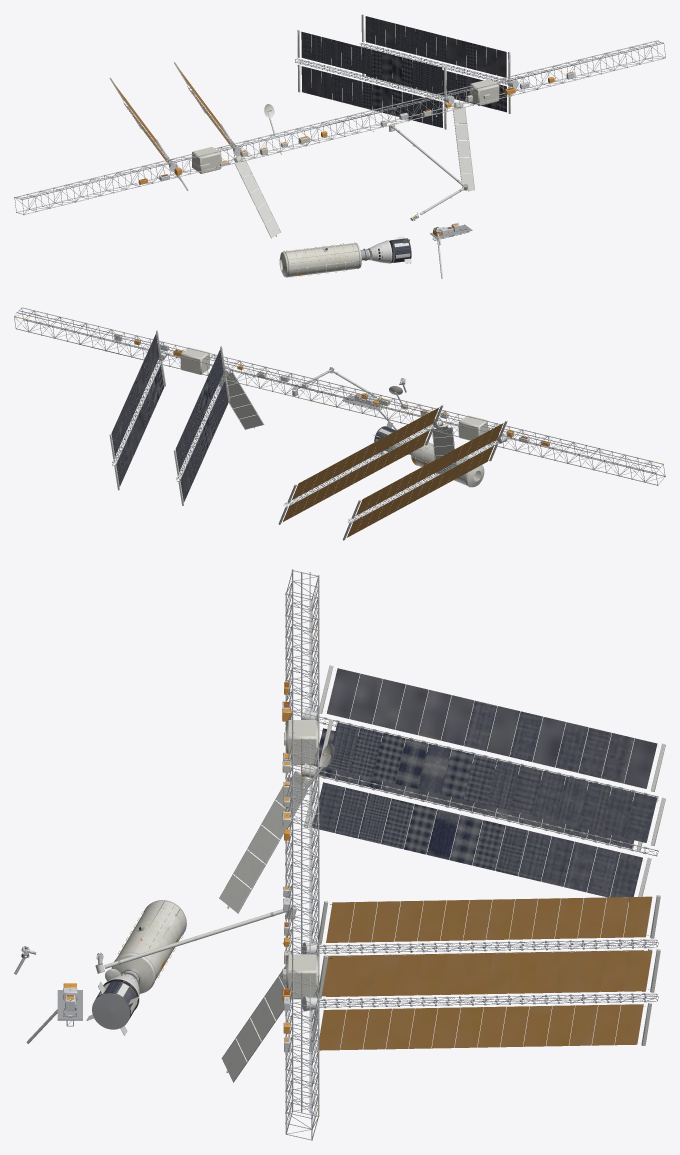
The model's file is station.glb.
3 views of the same model, one above another, from view 1: azimuth 30°, elevation 25°; view 2: azimuth 150°, elevation 25°; view 3: azimuth 270°, elevation 25° (orthographic). The views are drawn at different scales.
Parts seen in each view (by area): view 1: station.array.right, station.truss, station.module, station.array.left, station.radiator, station.radiator.left, station.capsule, station.arm, station.platform; view 2: station.array.left, station.truss, station.array.right, station.radiator, station.module, station.radiator.left, station.platform; view 3: station.array.left, station.array.right, station.truss, station.module, station.radiator.left, station.radiator, station.capsule, station.arm, station.platform.
Boxes of the visible parts, bbox=[...] form: station.array.right: bbox=[295, 14, 518, 129]; station.truss: bbox=[14, 40, 665, 214]; station.module: bbox=[279, 243, 366, 277]; station.array.left: bbox=[109, 62, 251, 190]; station.radiator: bbox=[452, 102, 474, 190]; station.radiator.left: bbox=[233, 155, 280, 238]; station.capsule: bbox=[365, 236, 411, 263]; station.arm: bbox=[388, 123, 468, 214]; station.platform: bbox=[430, 223, 472, 278]; station.array.left: bbox=[278, 404, 507, 540]; station.truss: bbox=[14, 307, 665, 485]; station.array.right: bbox=[109, 330, 231, 505]; station.radiator: bbox=[218, 372, 264, 429]; station.module: bbox=[410, 441, 484, 487]; station.radiator.left: bbox=[432, 423, 456, 473]; station.platform: bbox=[342, 393, 397, 430]; station.array.left: bbox=[286, 665, 665, 901]; station.array.right: bbox=[286, 895, 660, 1051]; station.truss: bbox=[282, 569, 319, 1140]; station.module: bbox=[111, 900, 186, 993]; station.radiator.left: bbox=[219, 771, 309, 913]; station.radiator: bbox=[221, 966, 285, 1082]; station.capsule: bbox=[86, 969, 139, 1035]; station.arm: bbox=[95, 904, 296, 973]; station.platform: bbox=[26, 983, 82, 1043].
Size of the model in its own units: 120 by 23.39 by 61.19.
Materials: 4 (1 with a texture image).
